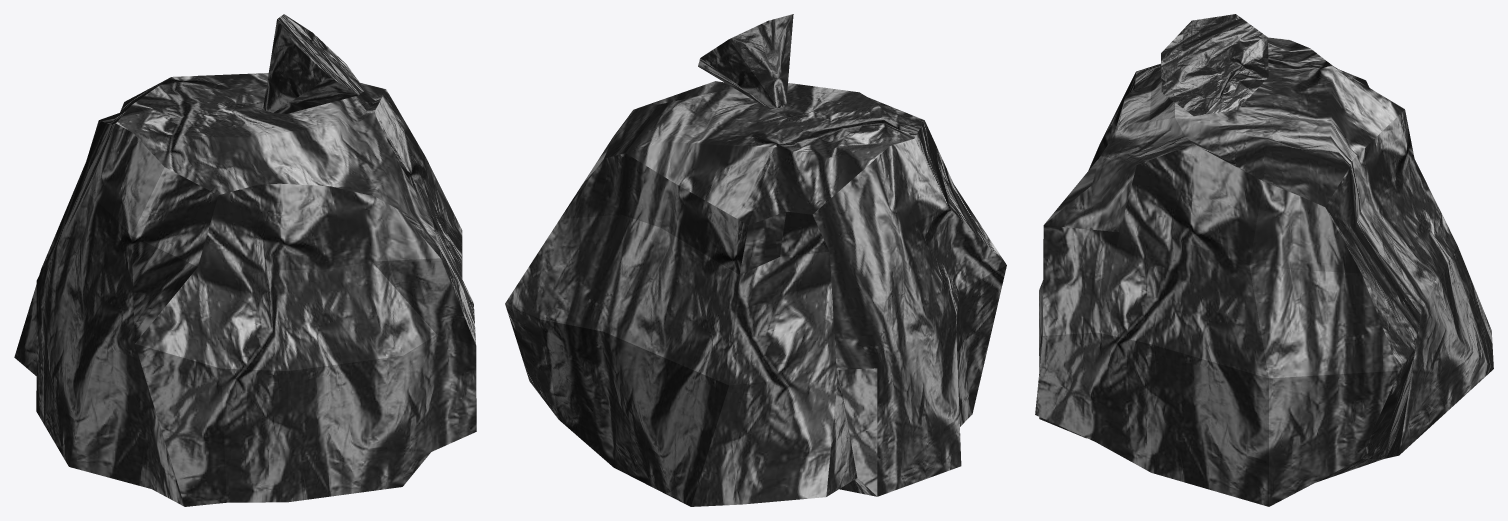
File: Trash.fbx
The picture shows the model from 3 angles, left to right: view 1: azimuth 30°, elevation 25°; view 2: azimuth 150°, elevation 25°; view 3: azimuth 270°, elevation 25°; orthographic projection. The views are drawn at different scales.
Parts seen in each view (by area): view 1: Cube, Cone; view 2: Cube, Cone; view 3: Cube, Cone.
Boxes of the visible parts, x1,y1,x2,y2 form: Cube: (14, 73, 476, 506); Cone: (263, 14, 364, 113); Cube: (505, 81, 1006, 506); Cone: (698, 14, 793, 108); Cube: (1035, 37, 1493, 506); Cone: (1161, 14, 1268, 115).
Size of the model in its own units: 215 by 211 by 215.
